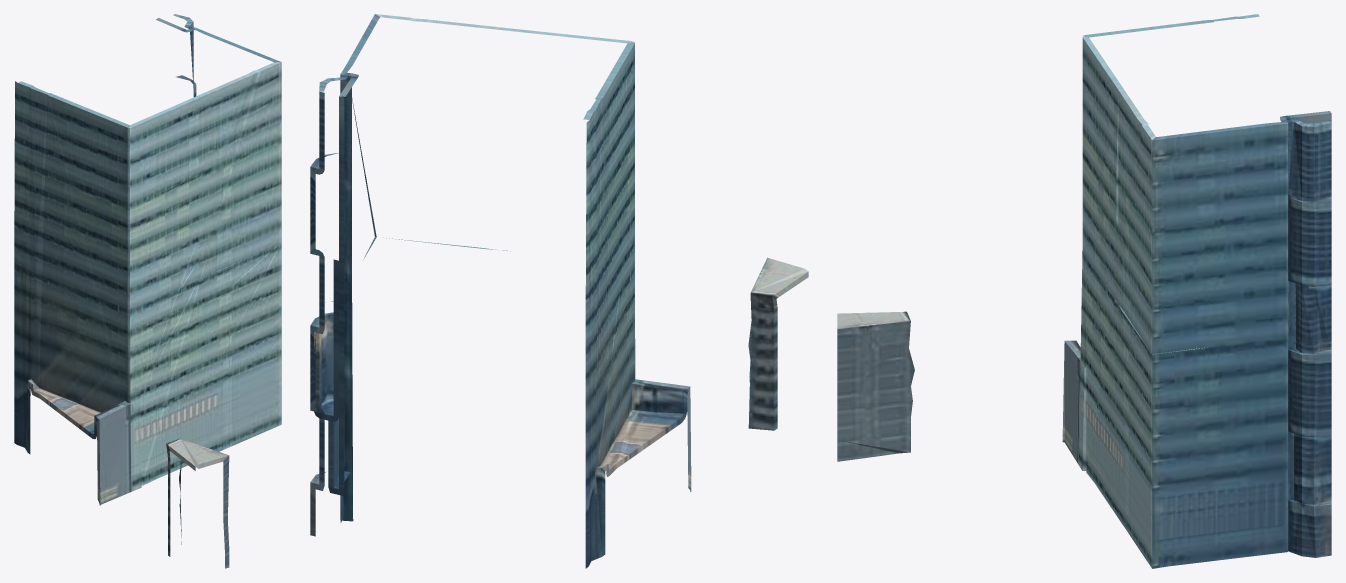
Rendered from chunk_-9_-4.glb.
The picture shows the model from 3 angles, left to right: view 1: azimuth 30°, elevation 25°; view 2: azimuth 150°, elevation 25°; view 3: azimuth 270°, elevation 25°; orthographic projection. The views are drawn at different scales.
Visible parts, largest first — view 1: hero-chunk; view 2: hero-chunk; view 3: hero-chunk.
Part boxes in pixels (box(x1,y1,x2,y2)): hero-chunk: box(14, 14, 281, 568); hero-chunk: box(310, 14, 808, 568); hero-chunk: box(837, 14, 1331, 568).
Bounding box in the file's own units: 47.11 × 72.95 × 76.32.
Materials: 1 (1 with a texture image).
